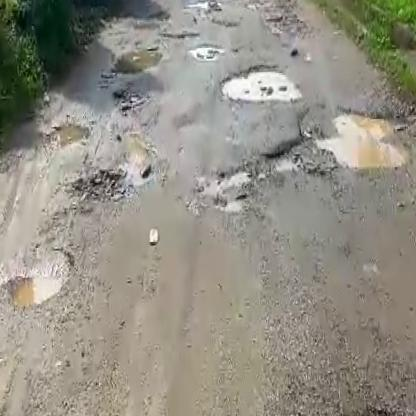pothole: (273, 99, 416, 178), (0, 235, 77, 312), (217, 58, 302, 105), (194, 167, 255, 219), (65, 163, 135, 208), (47, 118, 90, 148), (188, 40, 222, 59)
